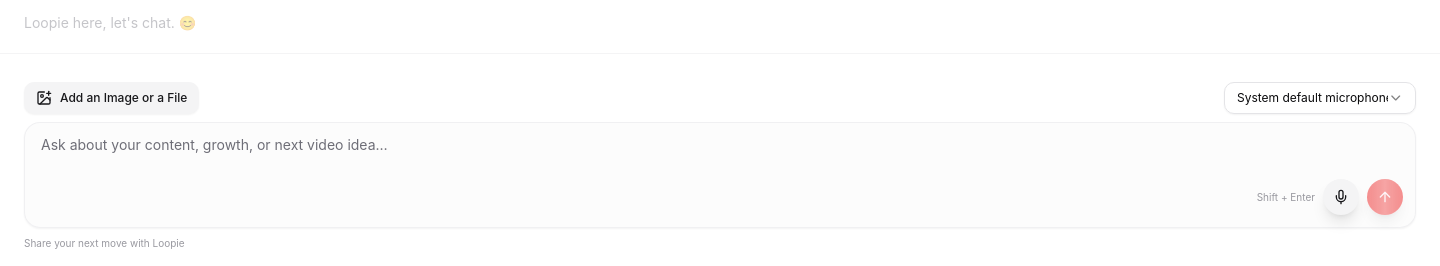
LoopieConversationContent dictation › appends dictated text to existing composer input
The image size is (1440, 266).
Type "Already here" into the text box with placeholder "Ask about your content, growth, or next video idea…" at (720, 175), box [25,123,1415,227]
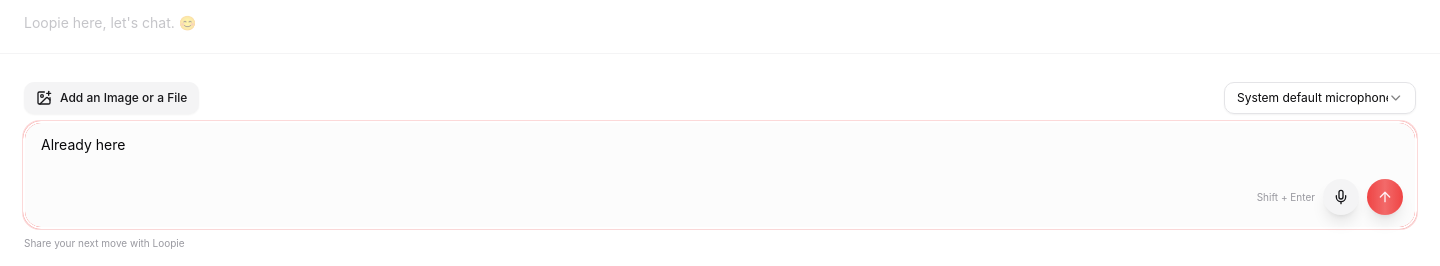
Click the button named "Dictate message" at (1341, 197), box [1323,179,1359,215]
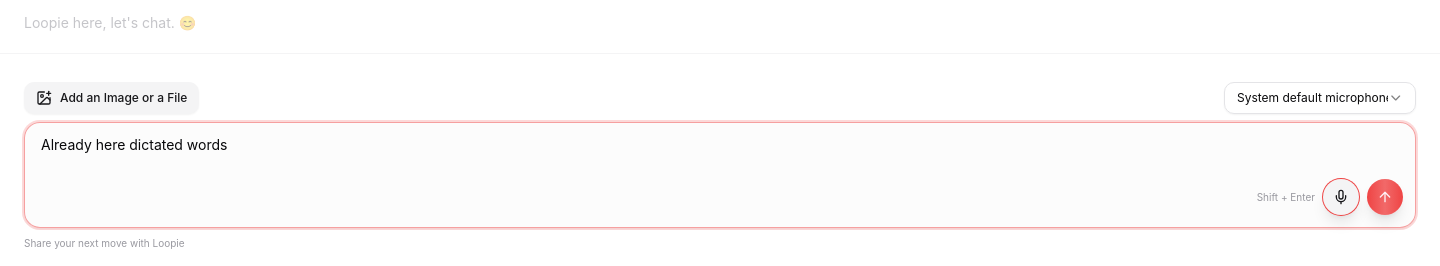
Check: the text box with placeholder "Ask about your content, growth, or next video idea…" holds "Already here dictated words", box [25,123,1415,227]
